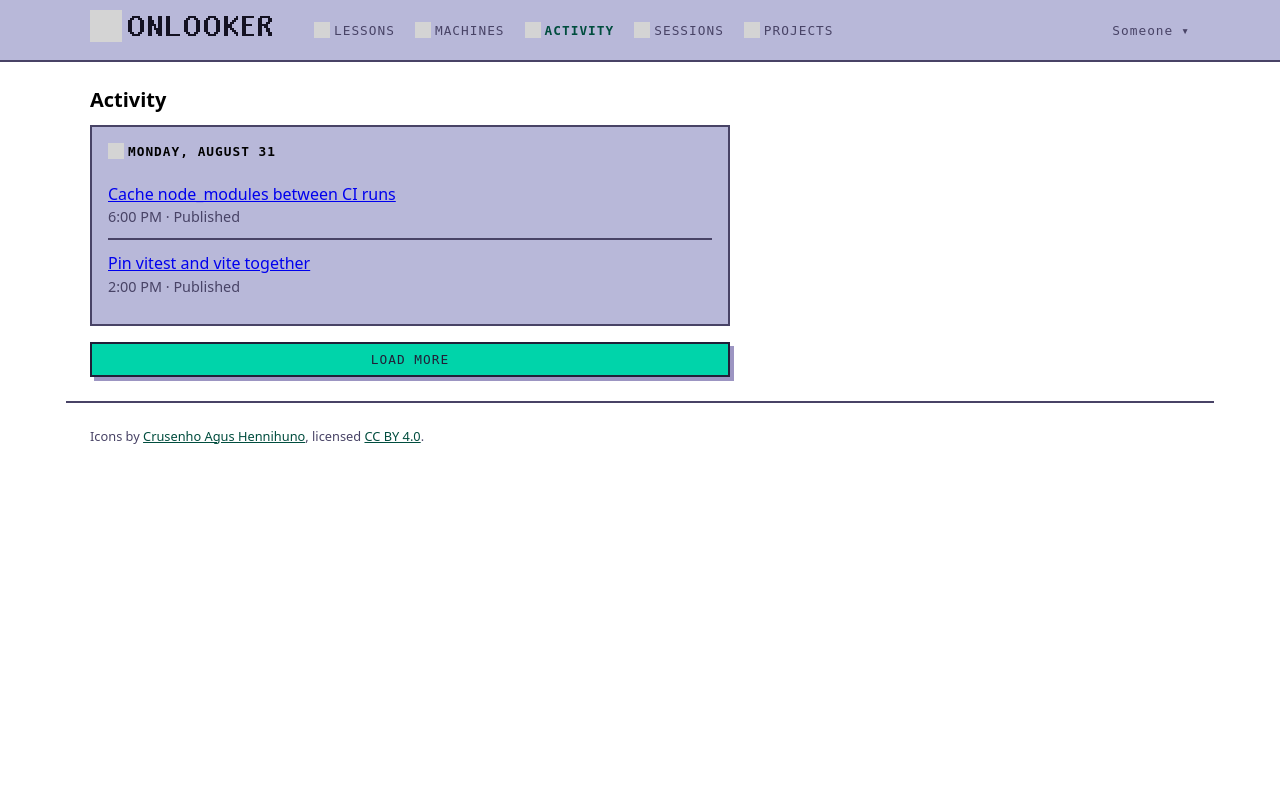
/activity pagination › advances the cursor on a second Load more click rather than repeating it
The image size is (1280, 800).
Click the button "Load more" at (410, 359), box 90,342 -> 730,377
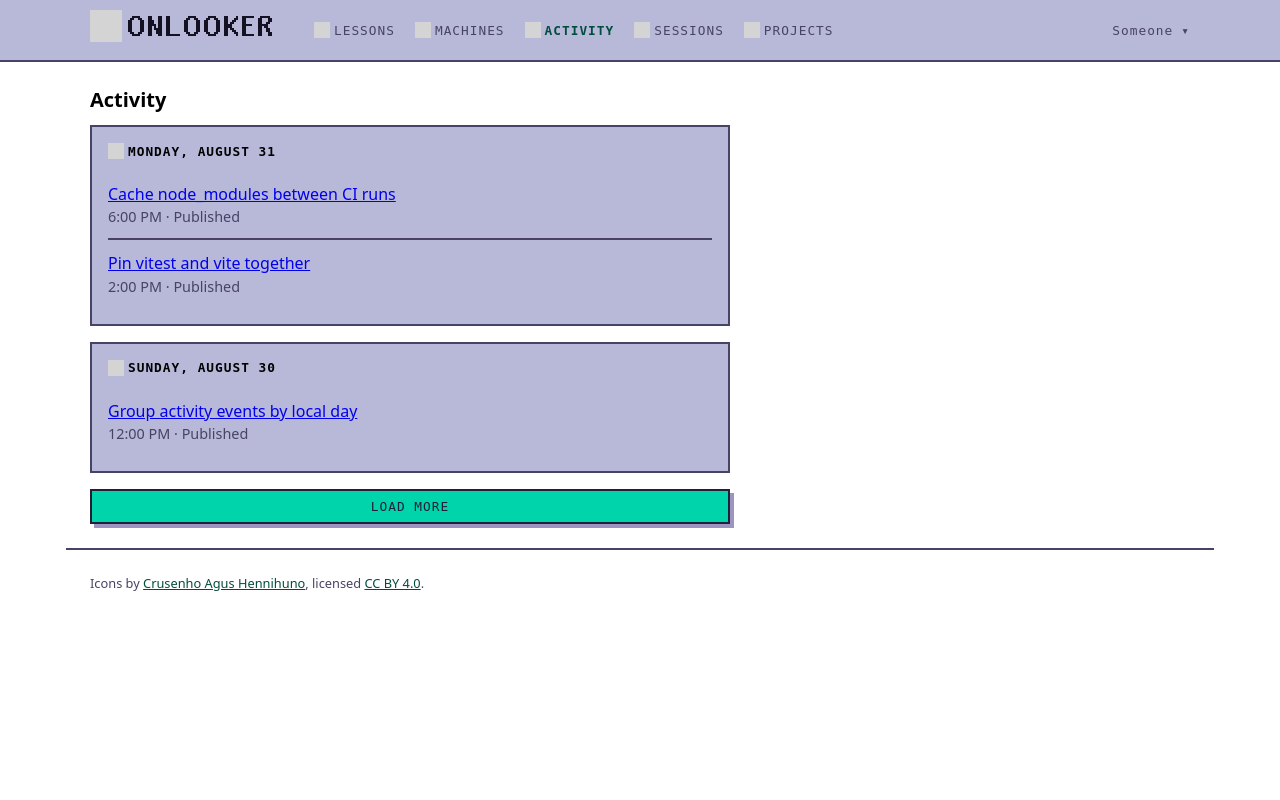
expect the link "Group activity events by local day" is shown: met, box 108,400 -> 357,422
Click the button "Load more" at (410, 507), box 90,489 -> 730,524
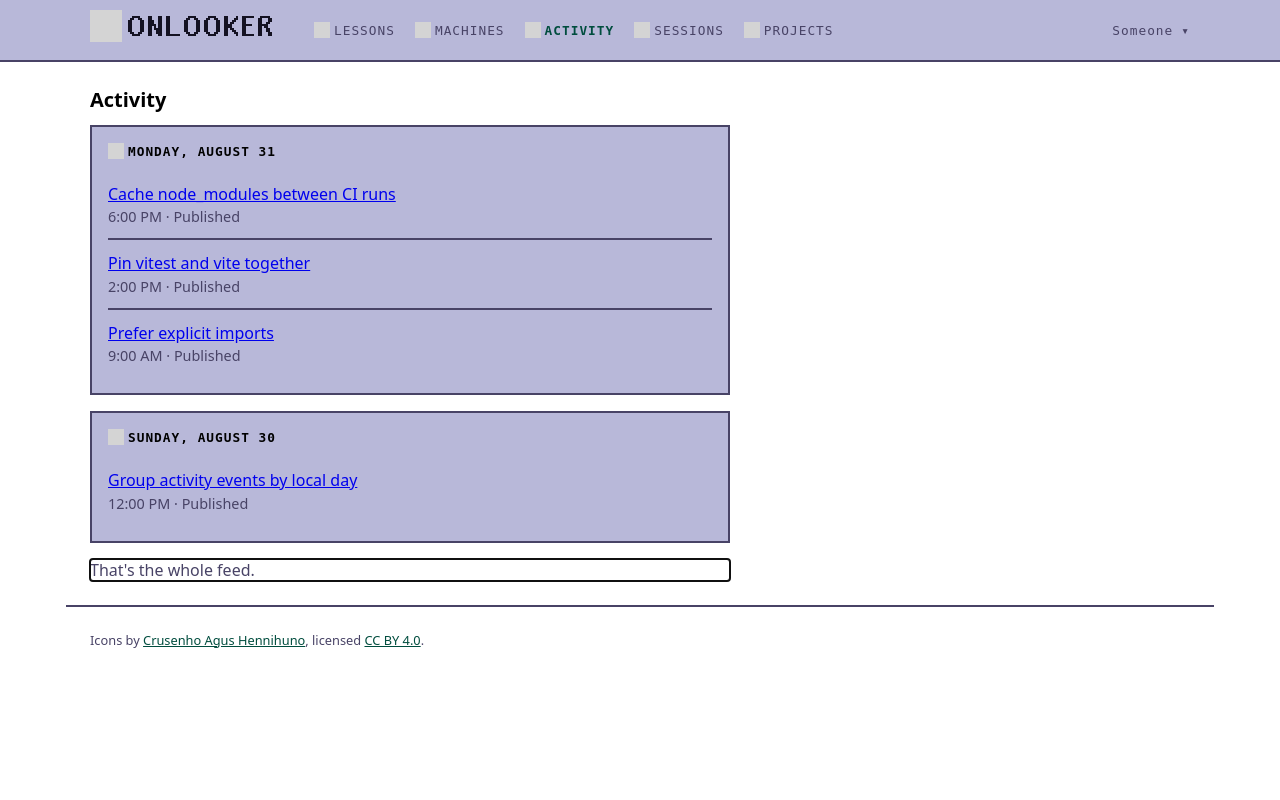
expect the link "Prefer explicit imports" is shown: met, box 108,322 -> 274,344
